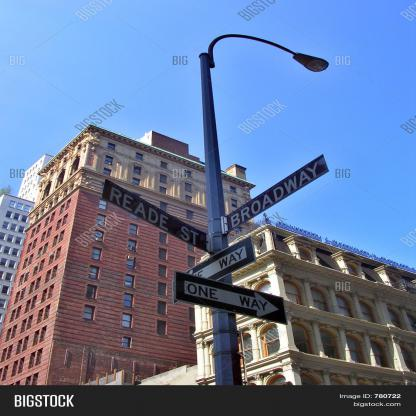Streetlights 1: (188, 23, 333, 390)
